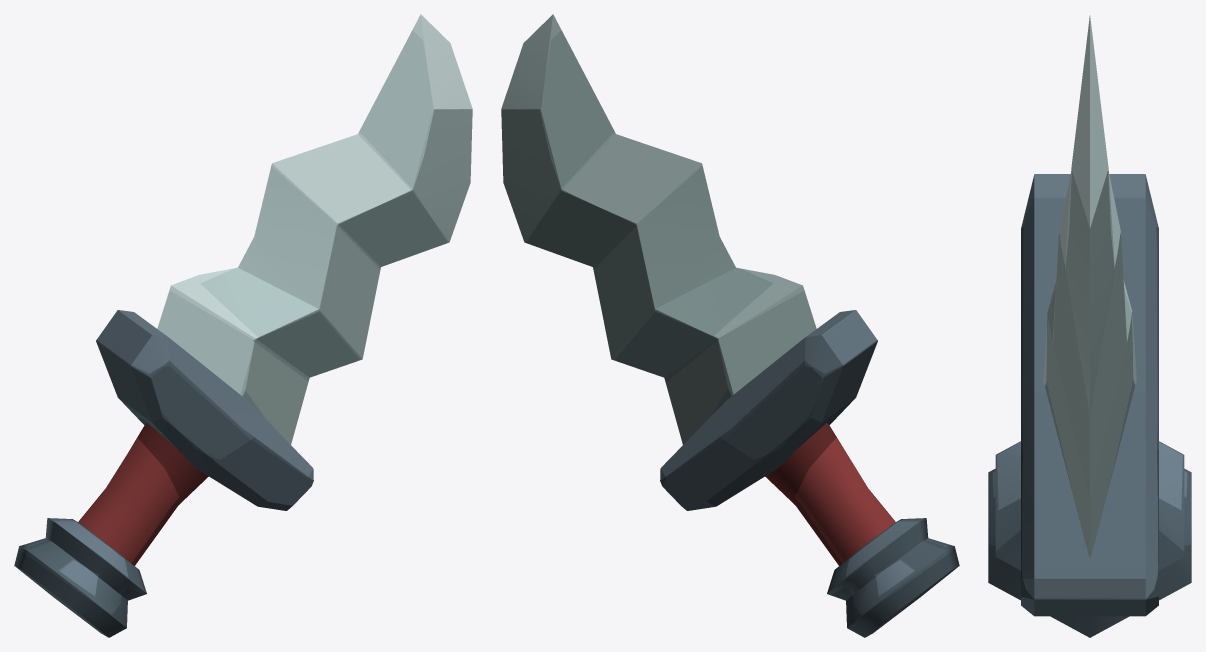
The model's file is Sharp_01.FBX.
3 views of the same model, side by side, from view 1: azimuth 30°, elevation 25°; view 2: azimuth 150°, elevation 25°; view 3: azimuth 270°, elevation 25° (orthographic). The views are drawn at different scales.
Parts seen in each view (by area): view 1: Sharp_01; view 2: Sharp_01; view 3: Sharp_01.
Part boxes in pixels (x1,y1,x2,y2): Sharp_01: (14,14,472,637); Sharp_01: (501,14,959,637); Sharp_01: (988,15,1191,637).
Size of the model in its own units: 65.65 by 75.42 by 15.94.
